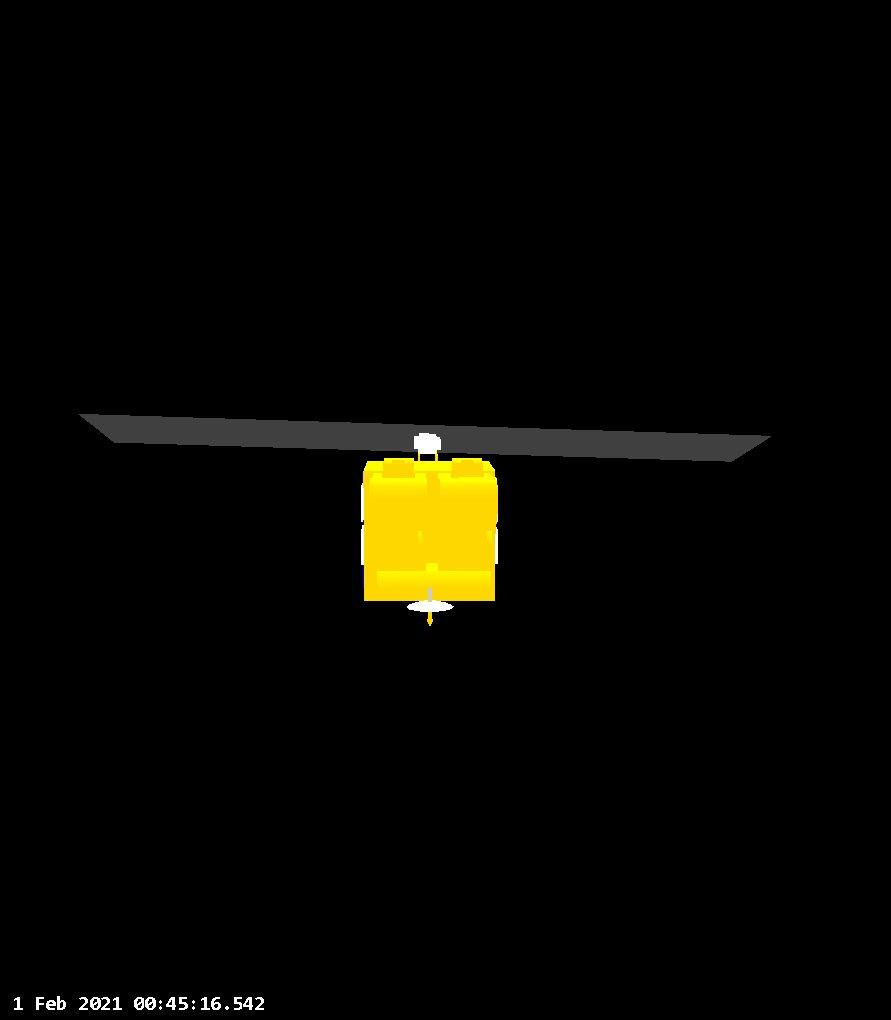antenna: (407, 581, 455, 628), (409, 427, 447, 463)
body: (349, 446, 508, 607)
solar: (72, 399, 773, 472)
